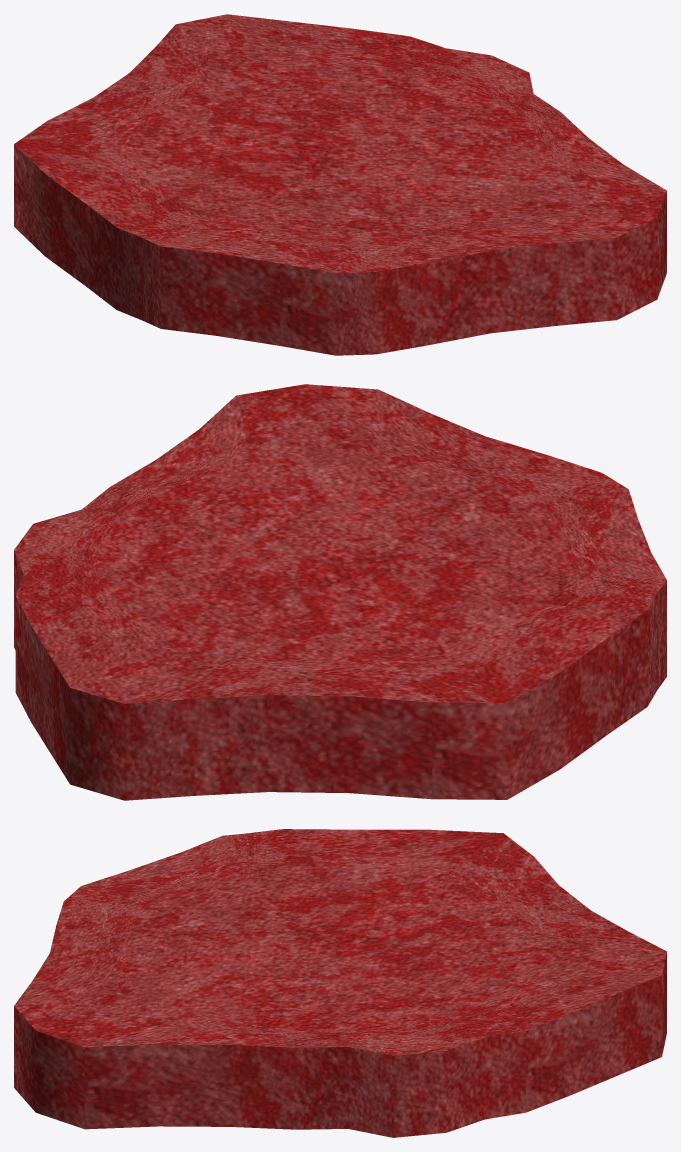
File: steak.obj
3 renders of one model, top to bottom at view 1: azimuth 30°, elevation 25°; view 2: azimuth 150°, elevation 25°; view 3: azimuth 270°, elevation 25°, orthographic. The views are drawn at different scales.
Visible parts, largest first — view 1: Cylinder001; view 2: Cylinder001; view 3: Cylinder001.
Part boxes in pixels (x1,y1,x2,y2): Cylinder001: (14,14,666,355); Cylinder001: (14,384,666,800); Cylinder001: (14,829,666,1137).
Bounding box in the file's own units: 27.57 × 4.64 × 33.54.
